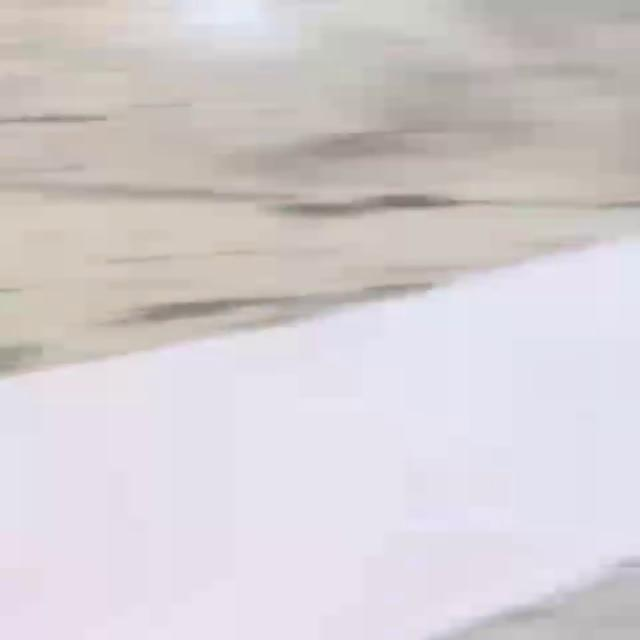road: (1, 242, 640, 640)
